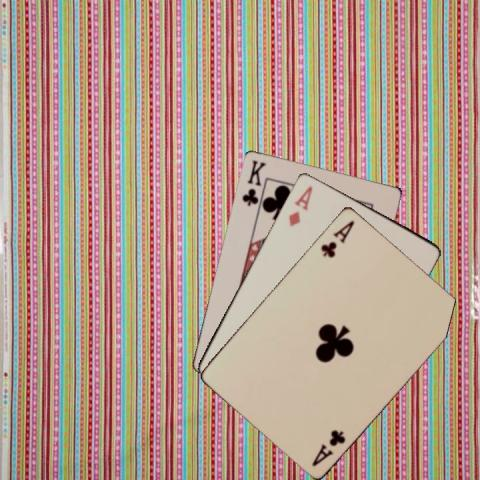Ac: (317, 217, 356, 259), (309, 426, 347, 468)
Ad: (285, 182, 314, 228)
Kc: (238, 157, 266, 207)
